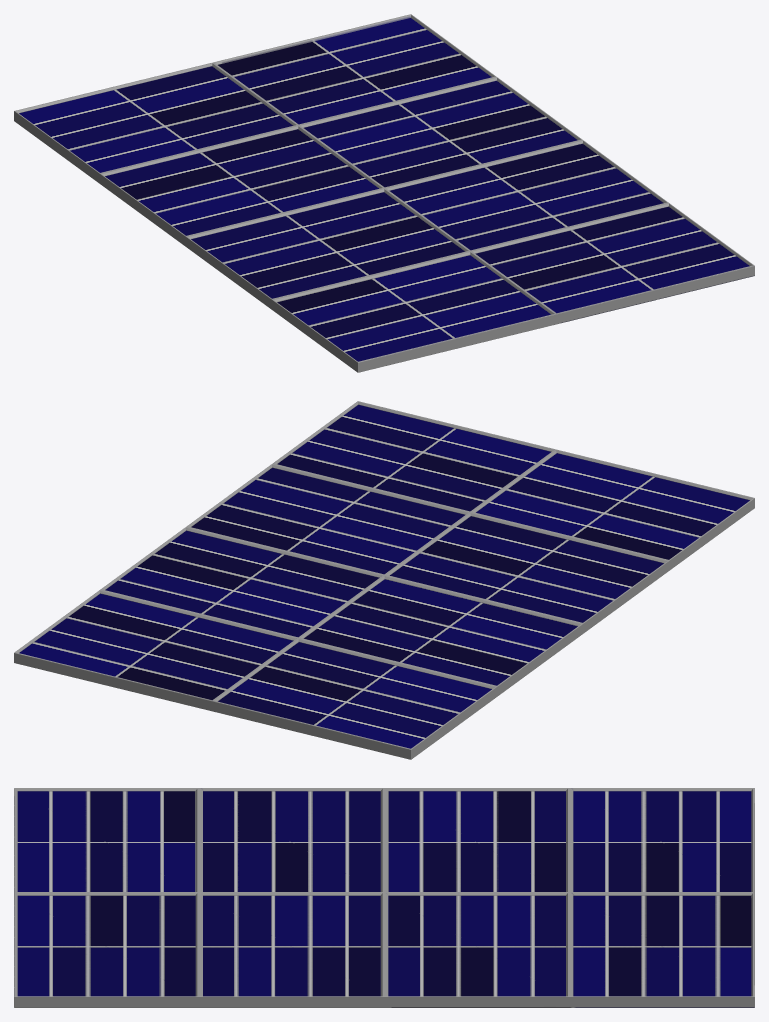
File: solarpanel_01.glb
3 renders of one model, top to bottom at view 1: azimuth 30°, elevation 25°; view 2: azimuth 150°, elevation 25°; view 3: azimuth 270°, elevation 25°, orthographic. The views are drawn at different scales.
Visible parts, largest first — view 1: Cube; view 2: Cube; view 3: Cube.
Part boxes in pixels (x1=…): Cube: x1=14, y1=14, x2=754, y2=372; Cube: x1=14, y1=401, x2=754, y2=759; Cube: x1=14, y1=788, x2=754, y2=1007.
Size of the model in its own units: 2 by 0.05 by 3.
Materials: 2 (2 with a texture image).
